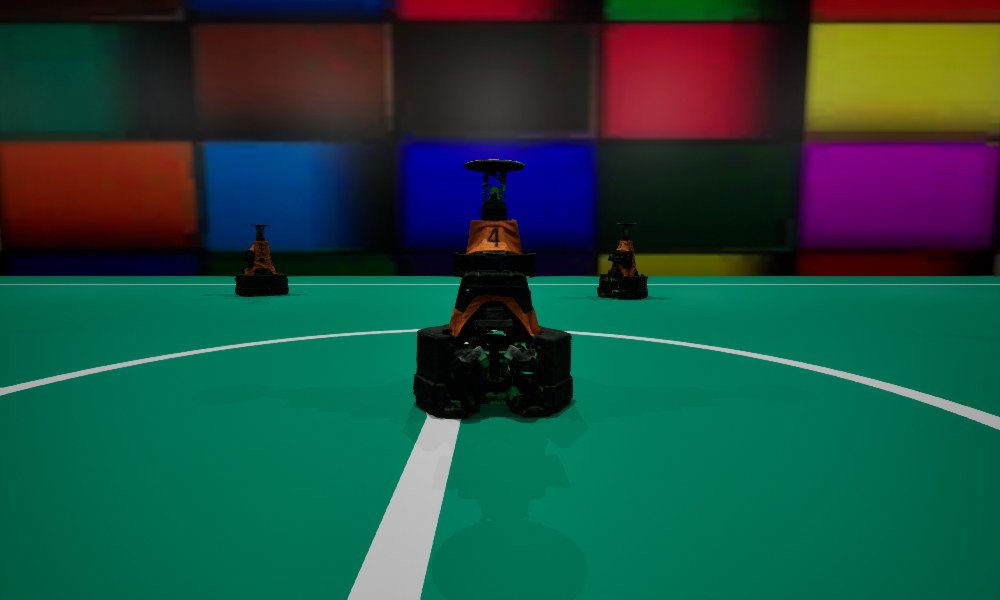0 orange robot TechUnited: (413, 159, 572, 418), (234, 225, 288, 295), (597, 223, 647, 298)
